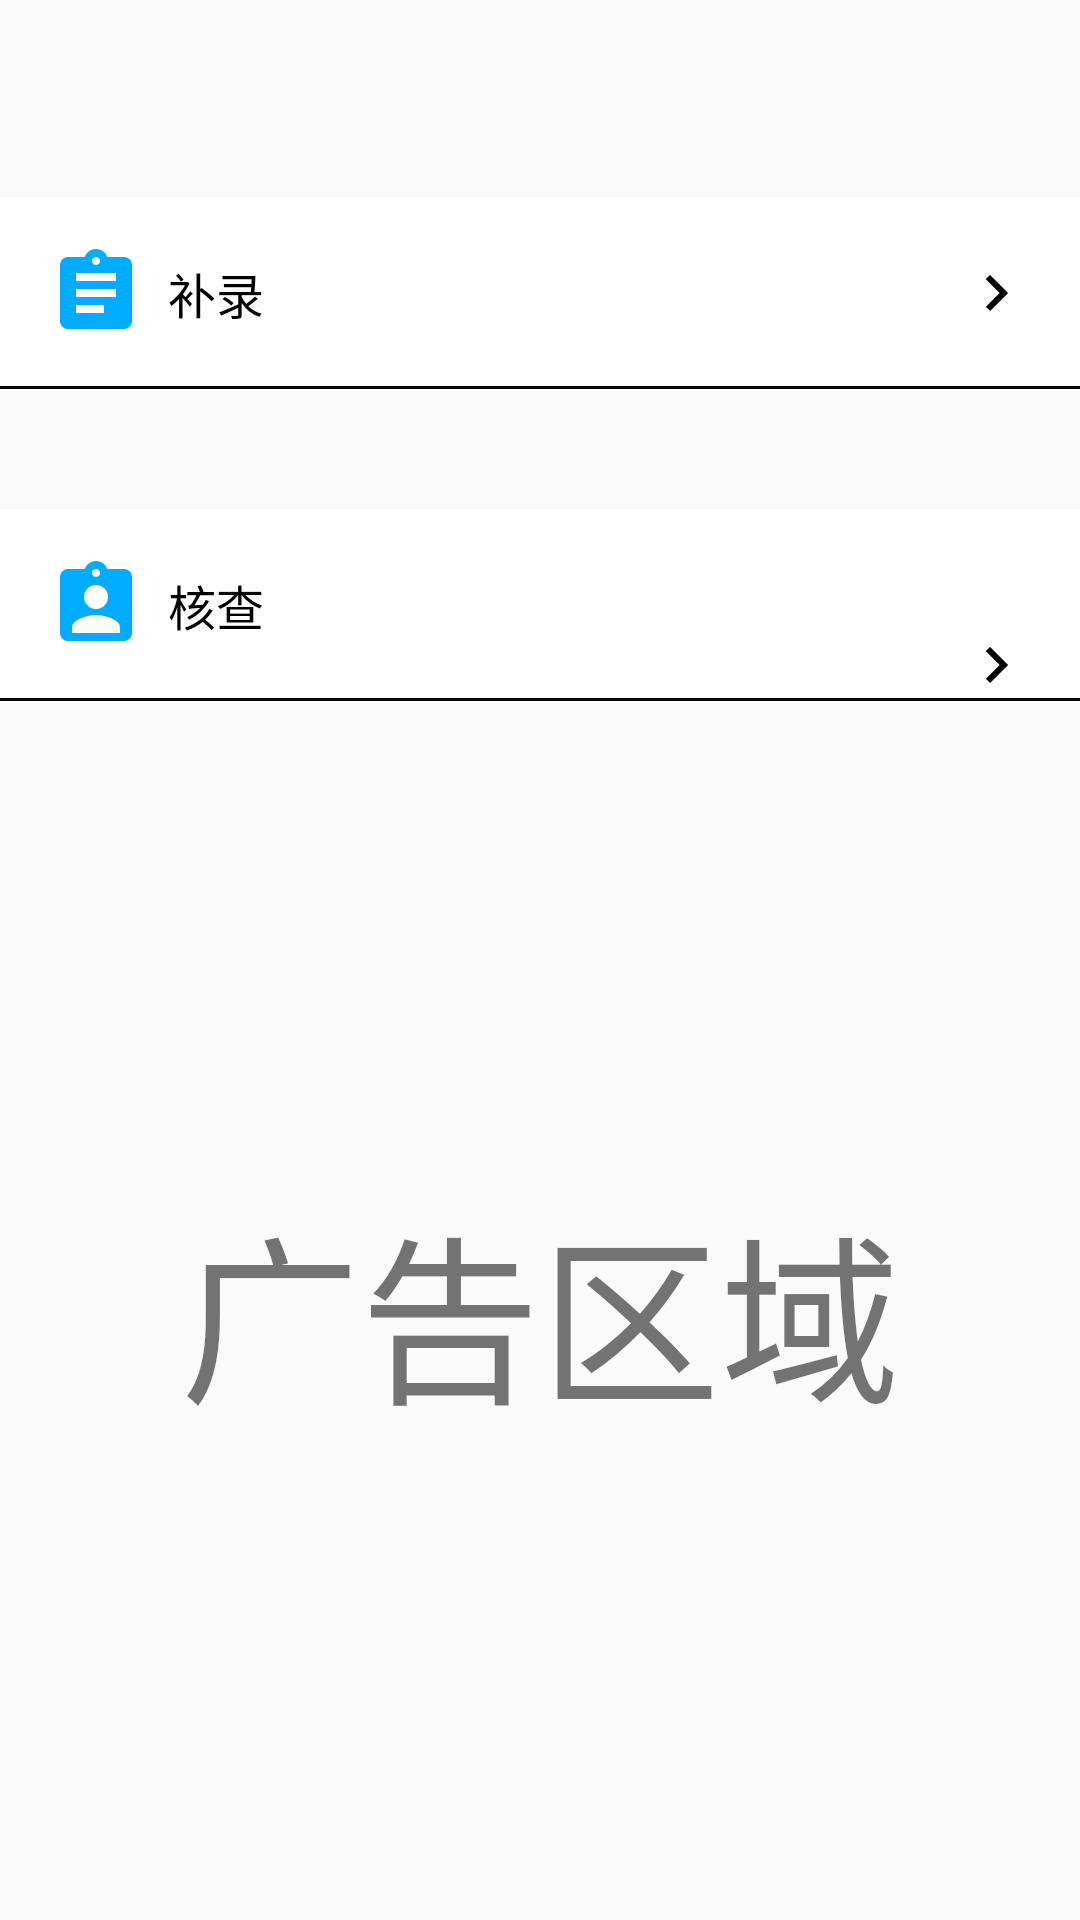

Icon click points for this 1080 x 1920 phone screenshot, format point (x, y):
assignment: point (96, 289)
assignment ind: point (96, 601)
keyboard arrow right: point (997, 293), point (997, 665)
